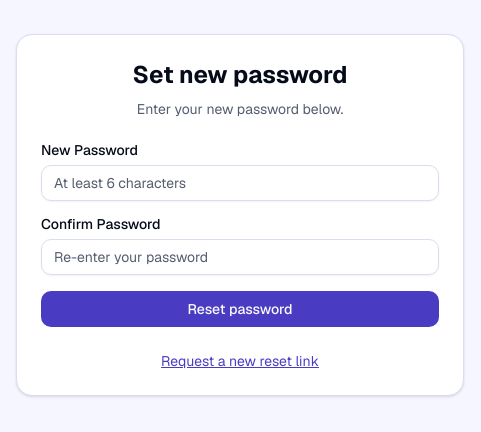
Test: ResetPasswordPage › shows sanitized error on failure
Step 1. Type "newpassword123" into the password field labelled "New Password" → [240, 183], box [41, 165, 439, 201]
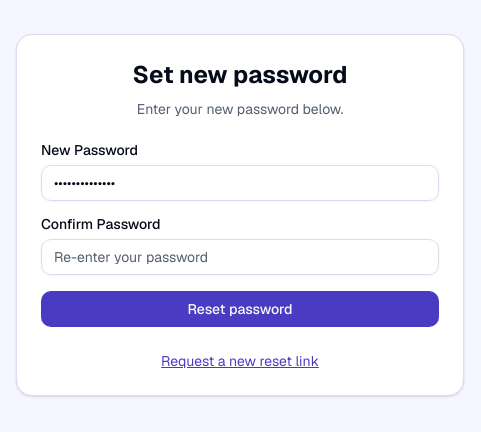
Step 2. Type "newpassword123" into the password field labelled "Confirm Password" → [240, 257], box [41, 239, 439, 275]
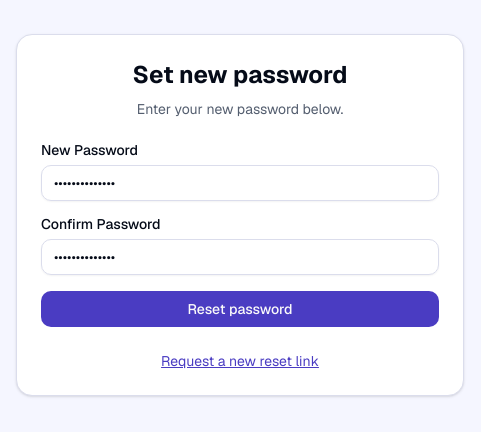
Step 3. Click the button "Reset password" → [240, 309], box [41, 291, 439, 327]
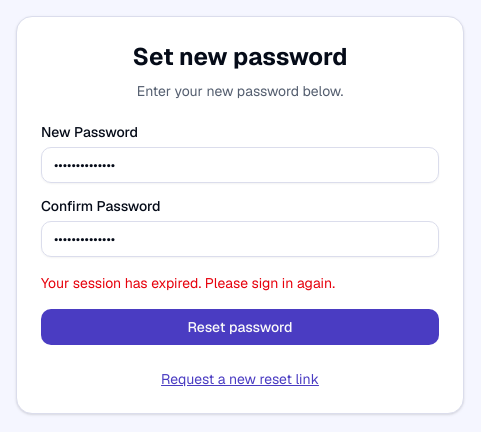
Expected: the message reads "Your session has expired. Please sign in again.", [41, 274, 335, 292]
